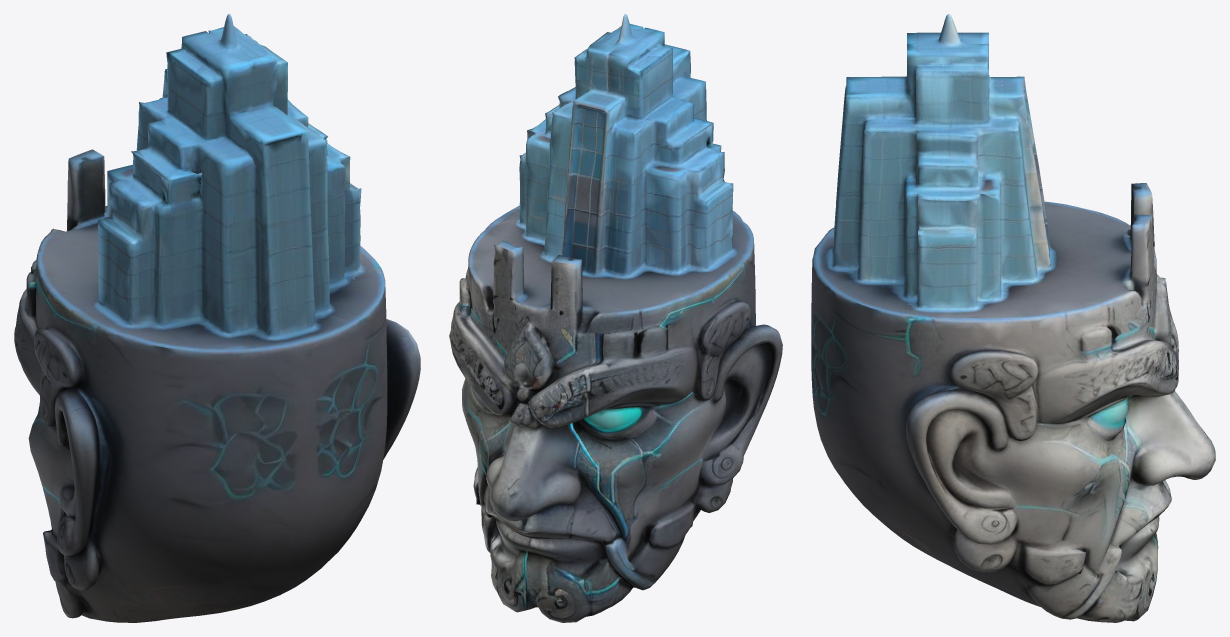
Rendered from gedung-titan.glb.
The picture shows the model from 3 angles, left to right: view 1: azimuth 30°, elevation 25°; view 2: azimuth 150°, elevation 25°; view 3: azimuth 270°, elevation 25°; orthographic projection. The views are drawn at different scales.
Parts seen in each view (by area): view 1: gedung-titan; view 2: gedung-titan; view 3: gedung-titan.
Part boxes in pixels (<box>): gedung-titan: <box>14,14,420,622</box>; gedung-titan: <box>449,14,782,622</box>; gedung-titan: <box>811,14,1215,622</box>.
Size of the model in its own units: 0.5544 by 1 by 0.6211.
1 material, 1 textured.
